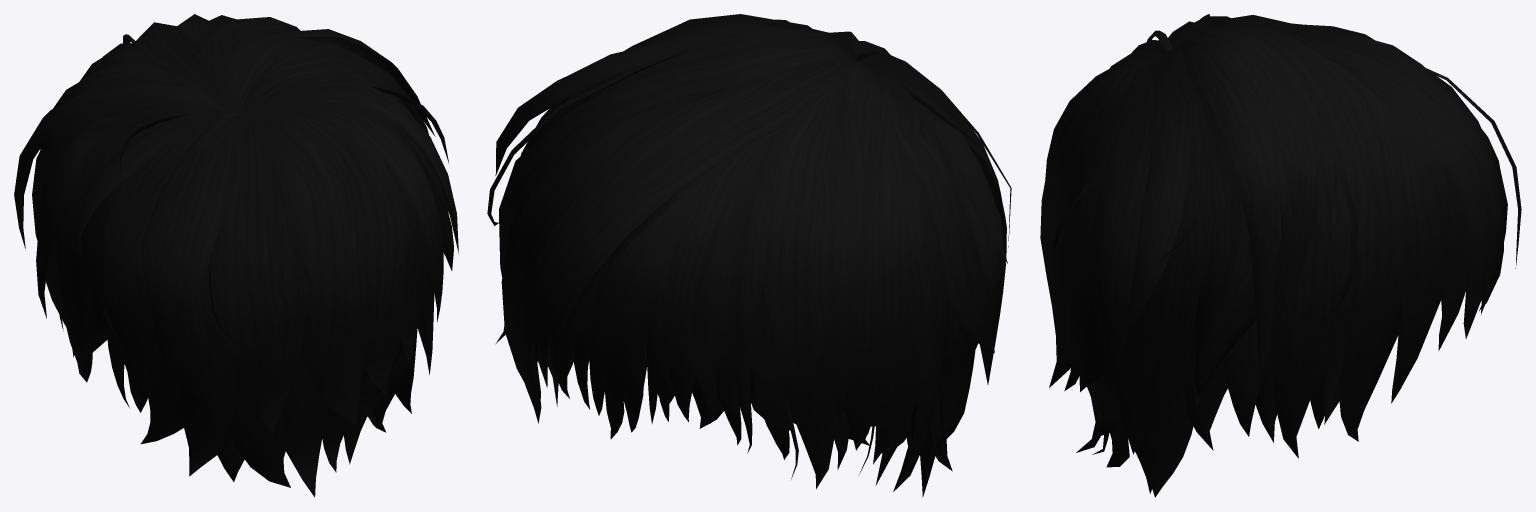
The model's file is 30-Nagumo-119570271189500.glb.
3 renders of one model, left to right at view 1: azimuth 30°, elevation 25°; view 2: azimuth 150°, elevation 25°; view 3: azimuth 270°, elevation 25°, orthographic. The views are drawn at different scales.
Visible parts, largest first — view 1: 30-Nagumo-119570271189500; view 2: 30-Nagumo-119570271189500; view 3: 30-Nagumo-119570271189500.
Boxes of the visible parts, x1,y1,x2,y2 form: 30-Nagumo-119570271189500: [14, 14, 458, 497]; 30-Nagumo-119570271189500: [487, 14, 1011, 497]; 30-Nagumo-119570271189500: [1040, 14, 1521, 497].
Size of the model in its own units: 1.71 by 1.66 by 1.7.
Materials: 1 (1 with a texture image).
